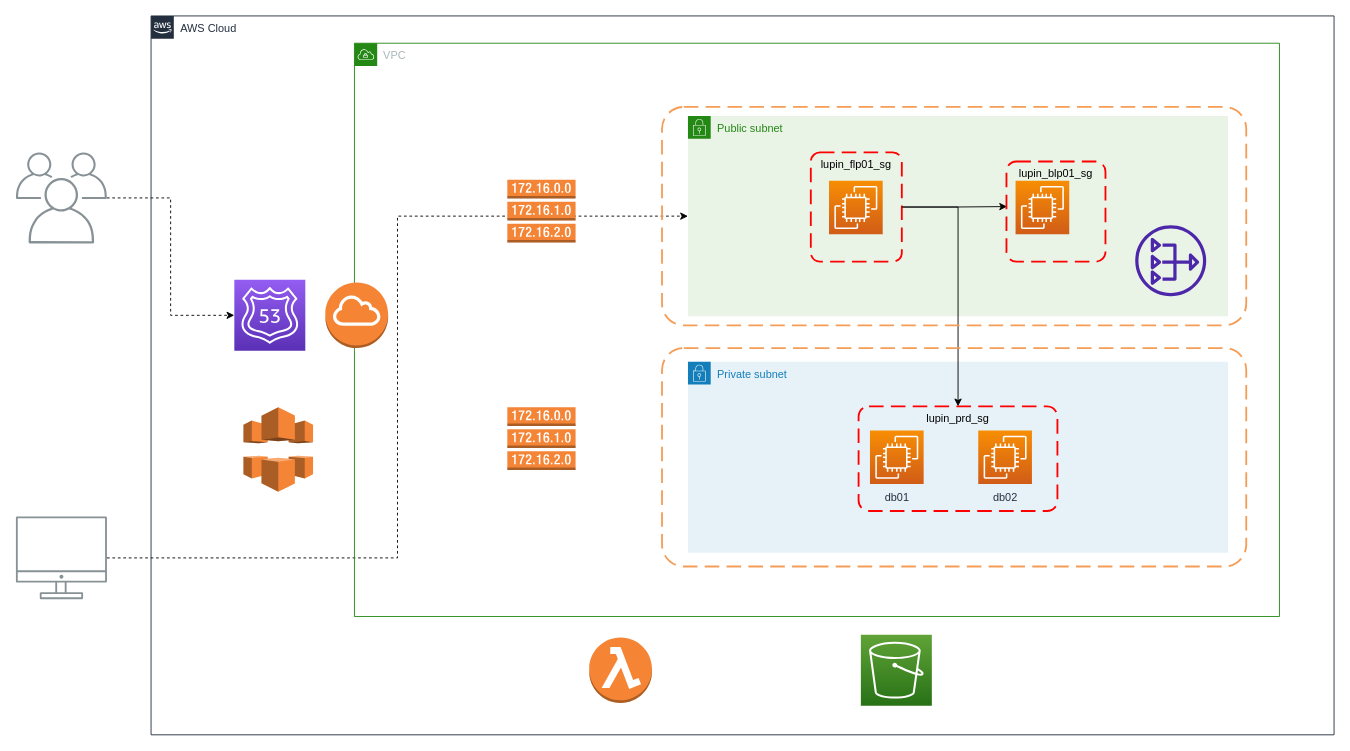
This 1350x751 diagram has some shape labels left out. The centre of each missing label's shape, as x and y in pixels:
"blp01" goes at point 1042,207.
"desktop" goes at point 60,557.
"flp01(Bastion)" goes at point 855,207.
"S3" goes at point 896,670.
"users" goes at point 60,197.
